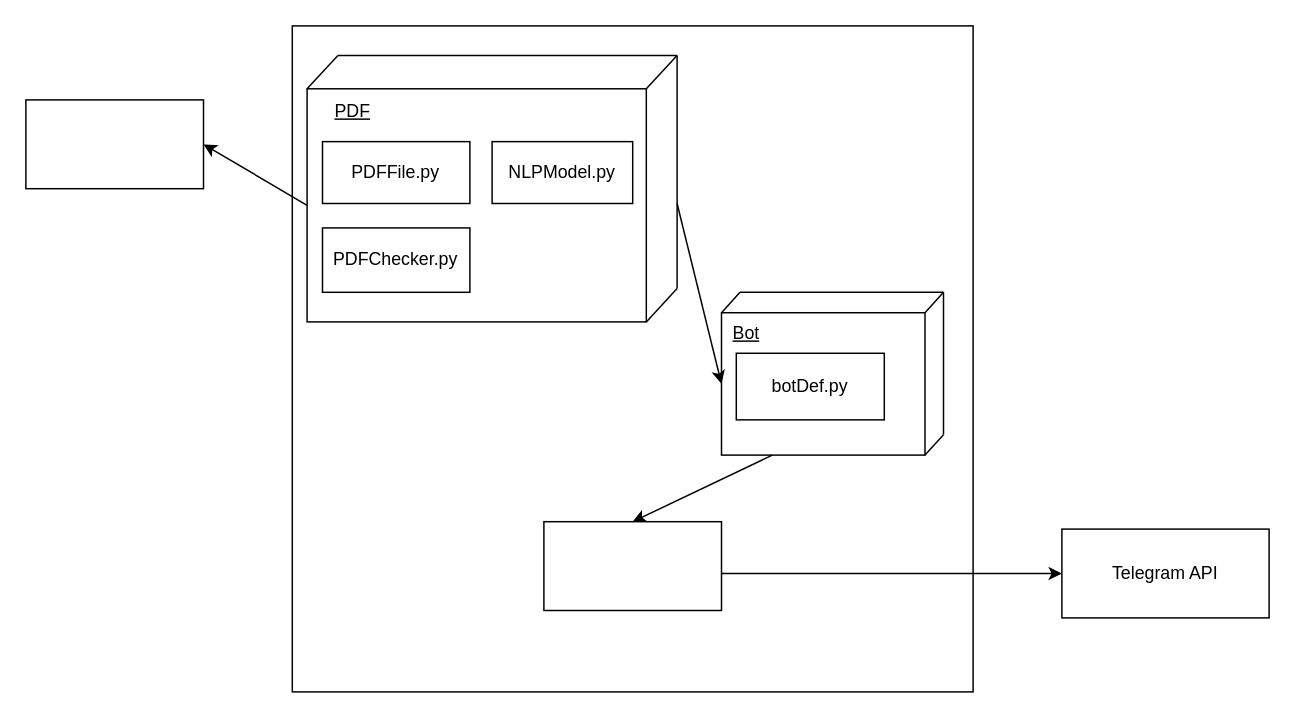
Some shapes in this 1295 by 718 pixel diagram are drawn without their labels. Each missing label, with the box of its shape:
Gemini API: (24, 98, 204, 189)
main.py: (542, 520, 722, 610)
